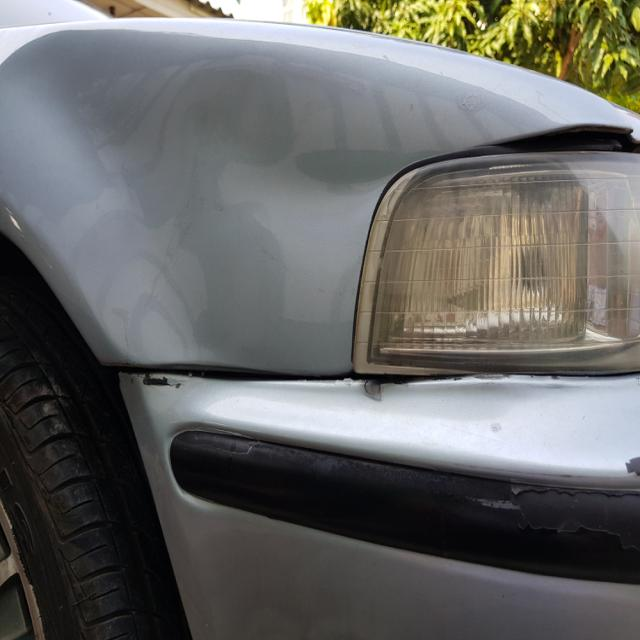dent: (0, 29, 450, 374)
